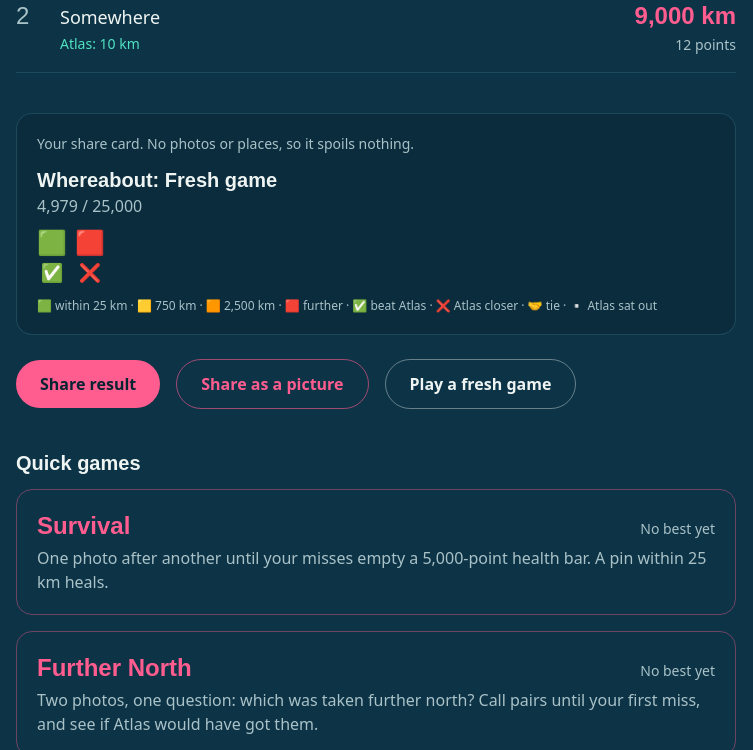
Test: Summary › previews the spoiler-free card and copies it where there is no share sheet
(page scrolled)
Expected: the picture named "Round 1: within 25 km, beat Atlas" is shown, [37,230,67,286]
Expected: the picture named "Round 2: over 2,500 km, Atlas got closer" is shown, [75,230,105,286]
Click the button "Share result" at (88,384), box [16,360,160,408]
(page scrolled)
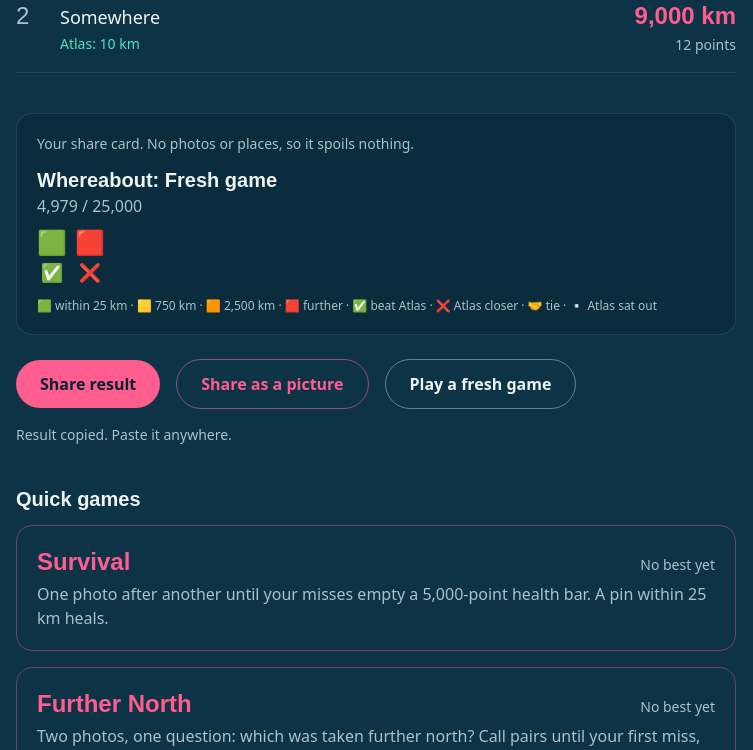
Result: the text "Result copied. Paste it anywhere." is shown at [16,425,232,445]
